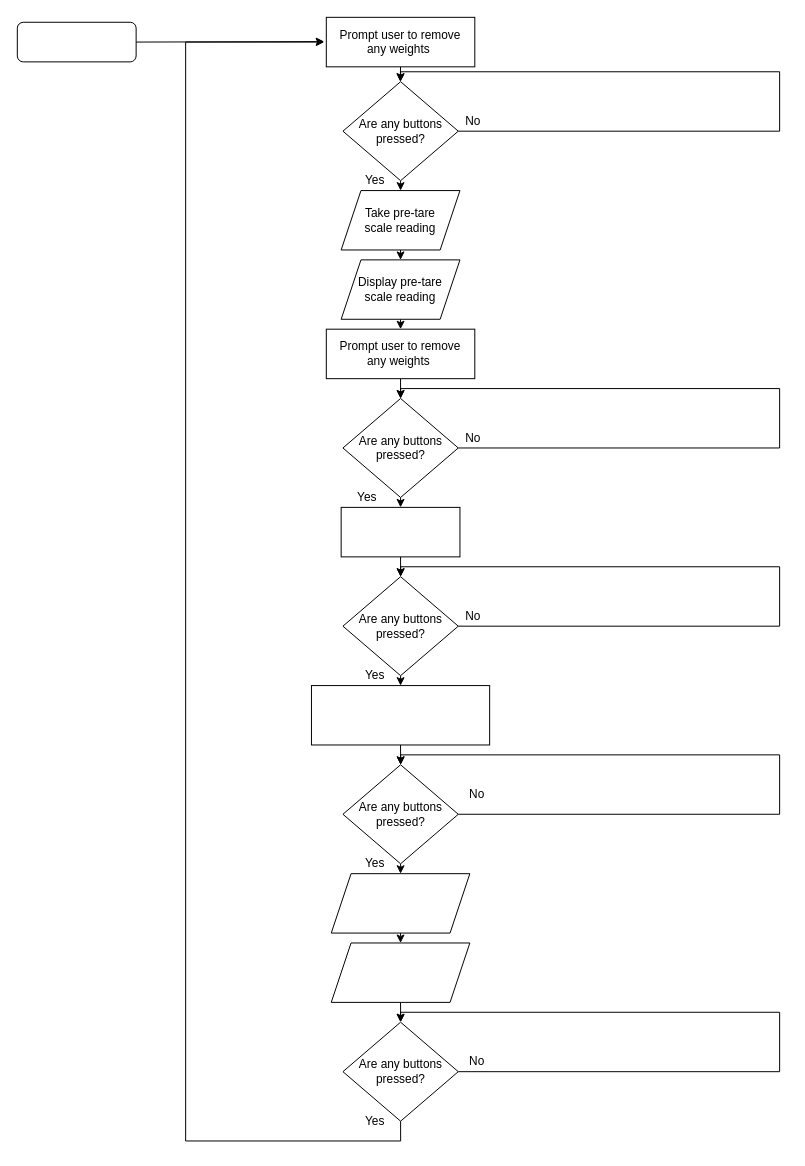
The diagram is 805 pixels wide and 1166 high, and some of its shapes have lost their labels. The centre of each missing label's shape, as x and y in pixels:
"Display uncalibrated scale reading" belongs at [400,972].
"Show calibration equation and prompt user to place known weight on scale" belongs at [400,715].
"Start" belongs at [76,41].
"Take uncalibrated scale reading" belongs at [400,903].
"Tare scale to 0" belongs at [400,531].
